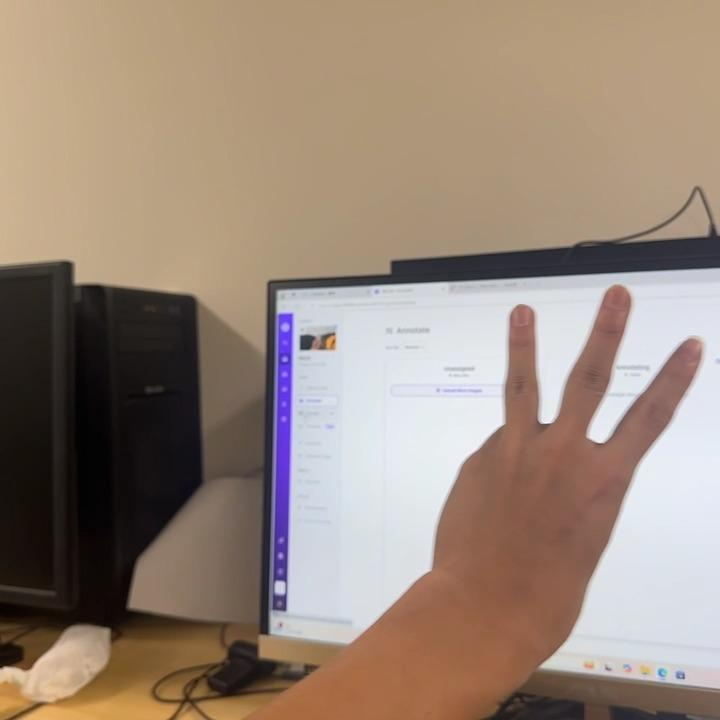without_gloves: (407, 263, 720, 636)
